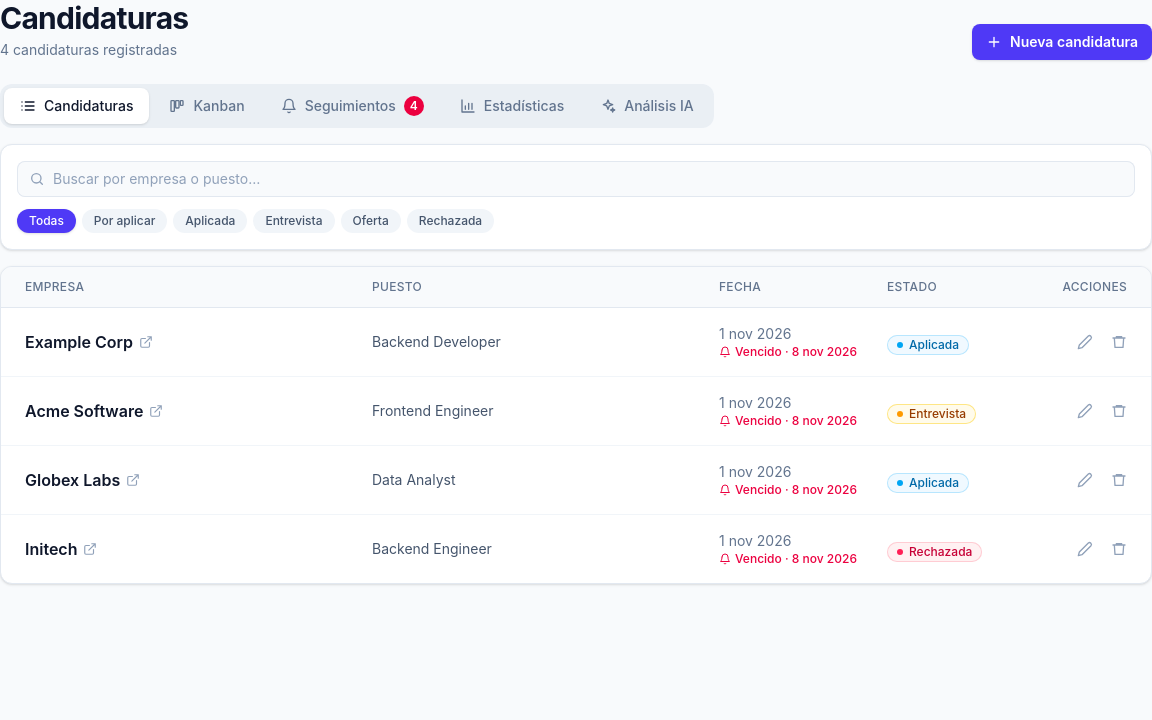
Test: ApplicationsPage search and filters › keeps the list consistent with the active filter after editing
The width and height of the screenshot is (1152, 720).
Expected: the list named "Candidaturas" is shown, [1,308,1151,583]
Click the button "Entrevista" at coordinates (294, 221), box [253,209,334,233]
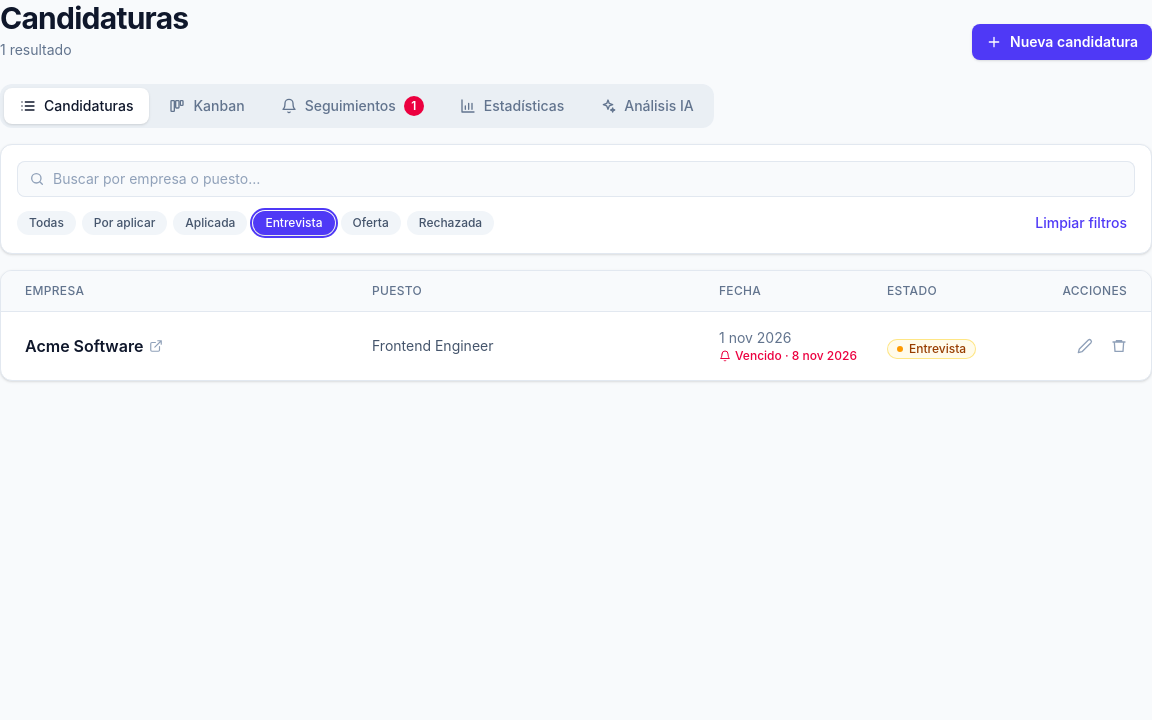
Click the button named "Editar Frontend Engineer en Acme Software" at coordinates (1085, 346), box [1069,330,1101,362]
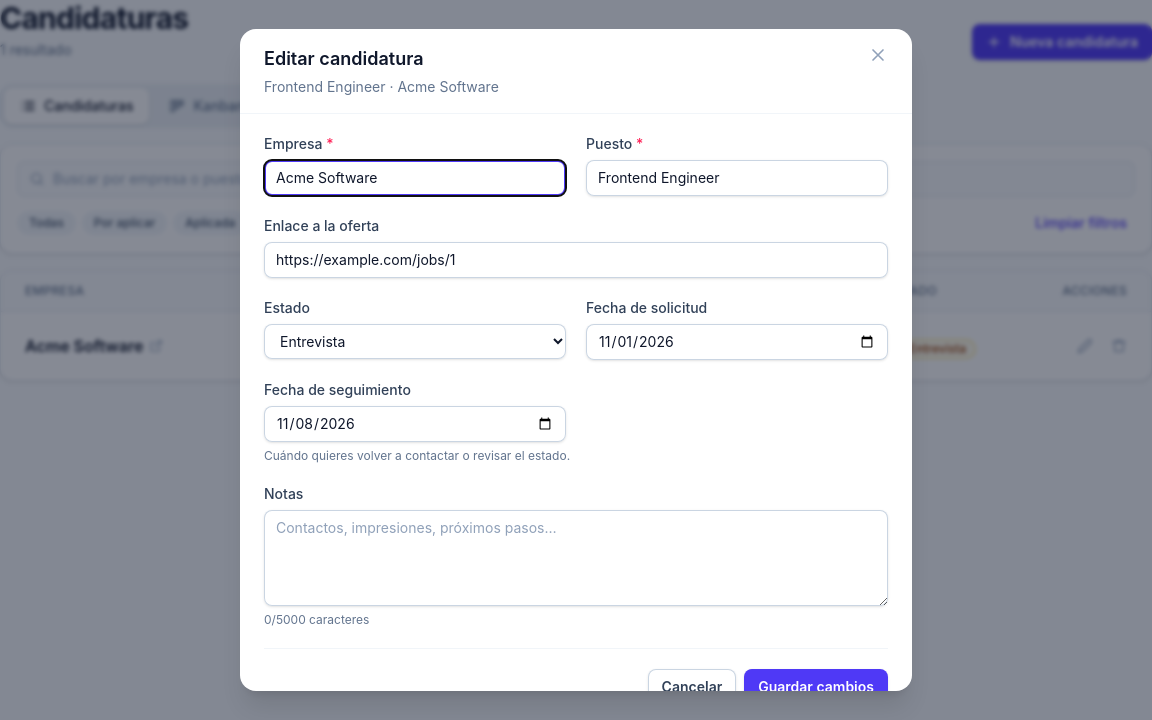
Select "Oferta" in the dropdown labelled "Estado" at coordinates (415, 341), box [264,324,566,359]
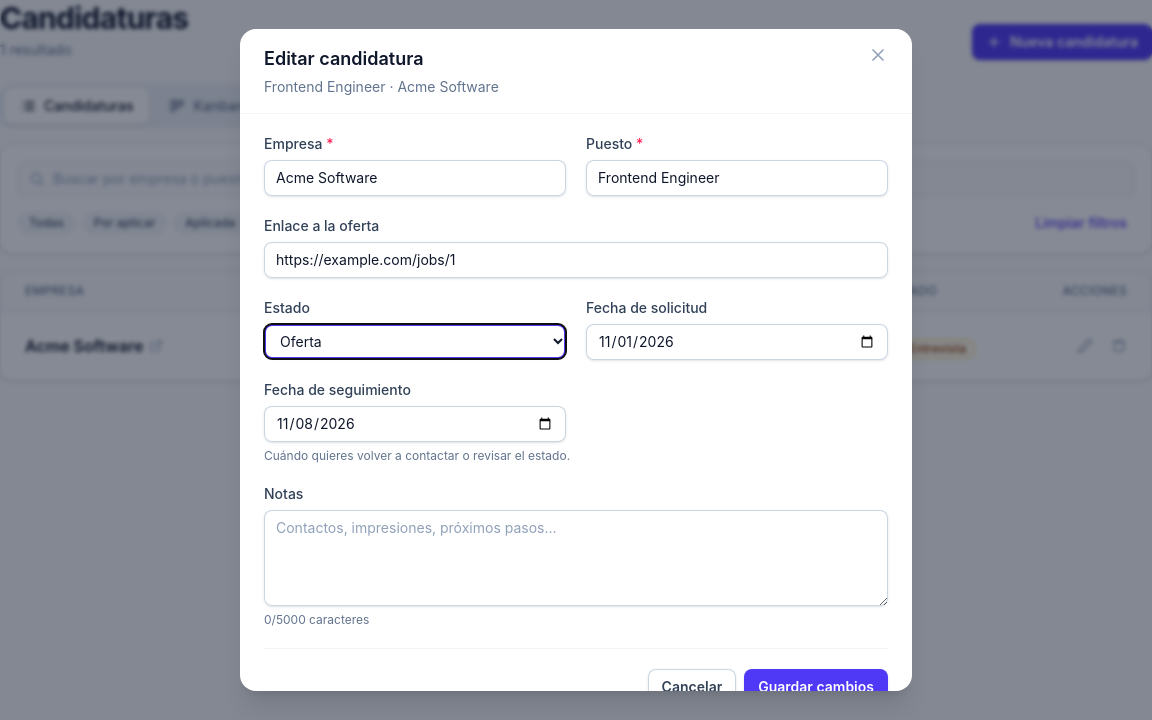
Click the button "Guardar cambios" at coordinates (816, 687), box [744,669,888,705]
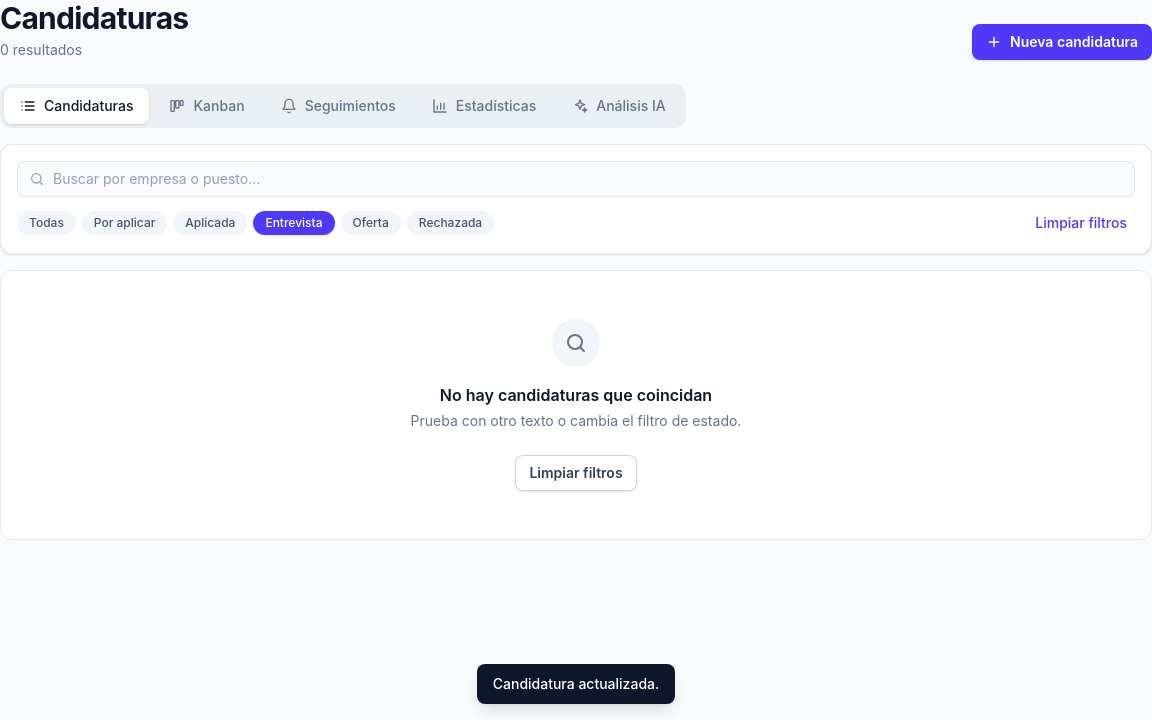
Expected: the heading "No hay candidaturas que coincidan" is shown, [440,383,712,407]
